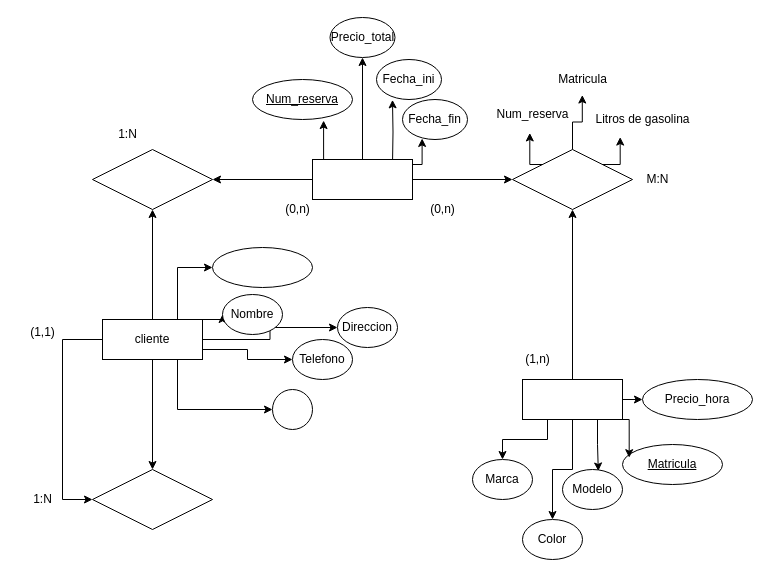
This 770x577 diagram has some shape labels left out. Each missing label, with the centre of its shape:
"Avalar" belongs at pixel 152 499.
"Coche" belongs at pixel 572 399.
"Cod_cliente" belongs at pixel 262 267.
"DNI" belongs at pixel 292 409.
"Hace" belongs at pixel 152 179.
"Incluye" belongs at pixel 572 179.
"Reserva" belongs at pixel 362 179.
